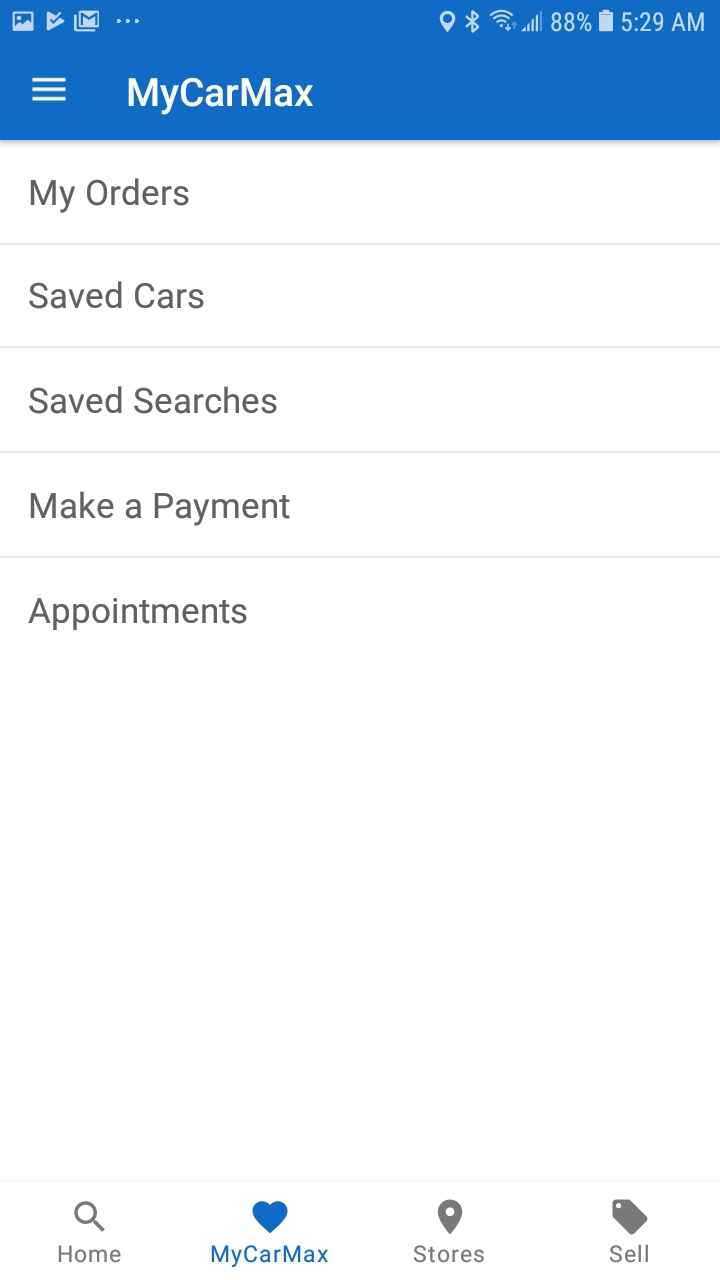Icon: (611, 1198, 648, 1235), (252, 1200, 289, 1234), (74, 1201, 107, 1233), (32, 77, 68, 103), (437, 1199, 463, 1235)
Text: (30, 490, 291, 527), (28, 597, 248, 631), (128, 78, 314, 117), (29, 386, 278, 415), (30, 178, 190, 214), (29, 281, 205, 311), (211, 1244, 329, 1268), (413, 1244, 485, 1263), (59, 1244, 122, 1263), (609, 1244, 649, 1264)
UpperTaskBar: (1, 1, 720, 35)
